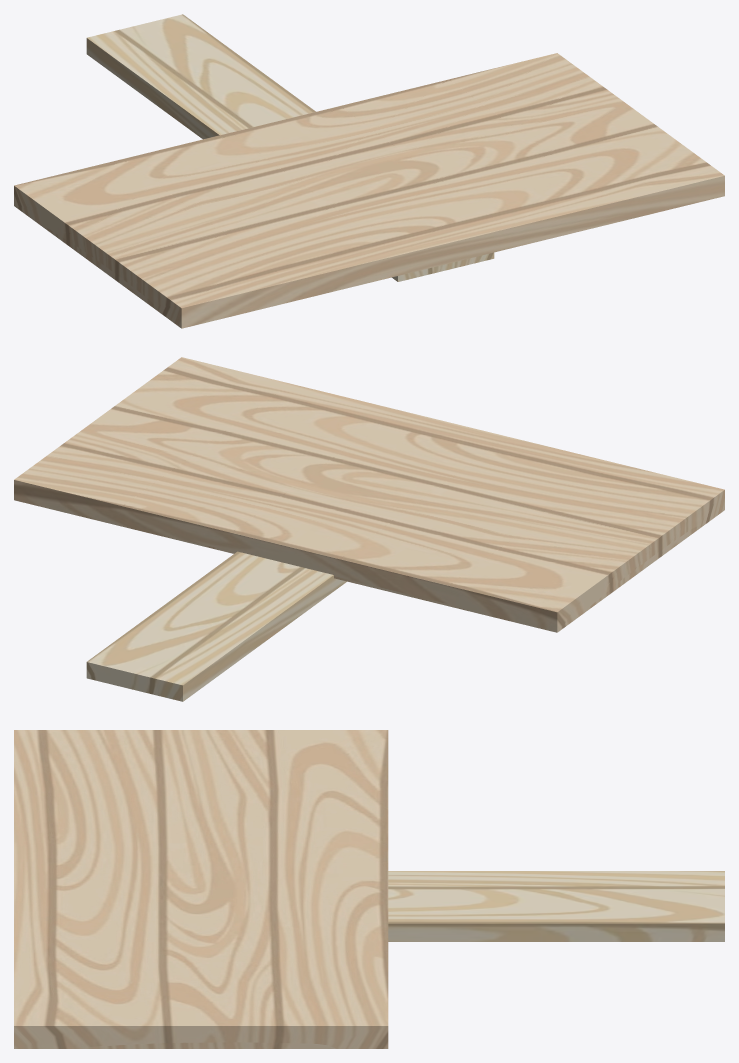
File: blank-sign 2.fbx
3 views of the same model, one above another, from view 1: azimuth 30°, elevation 25°; view 2: azimuth 150°, elevation 25°; view 3: azimuth 270°, elevation 25° (orthographic). The views are drawn at different scales.
Parts seen in each view (by area): view 1: pPlane1, pPlane2; view 2: pPlane1, pPlane2; view 3: pPlane1, pPlane2.
Part boxes in pixels (bbox=[...]): pPlane1: bbox=[14, 53, 724, 328]; pPlane2: bbox=[86, 14, 494, 281]; pPlane1: bbox=[14, 357, 724, 632]; pPlane2: bbox=[86, 551, 346, 701]; pPlane1: bbox=[14, 730, 388, 1048]; pPlane2: bbox=[388, 871, 724, 941].
Size of the model in its own units: 13.09 by 0.7737 by 13.3.
Materials: 2 (2 with a texture image).
